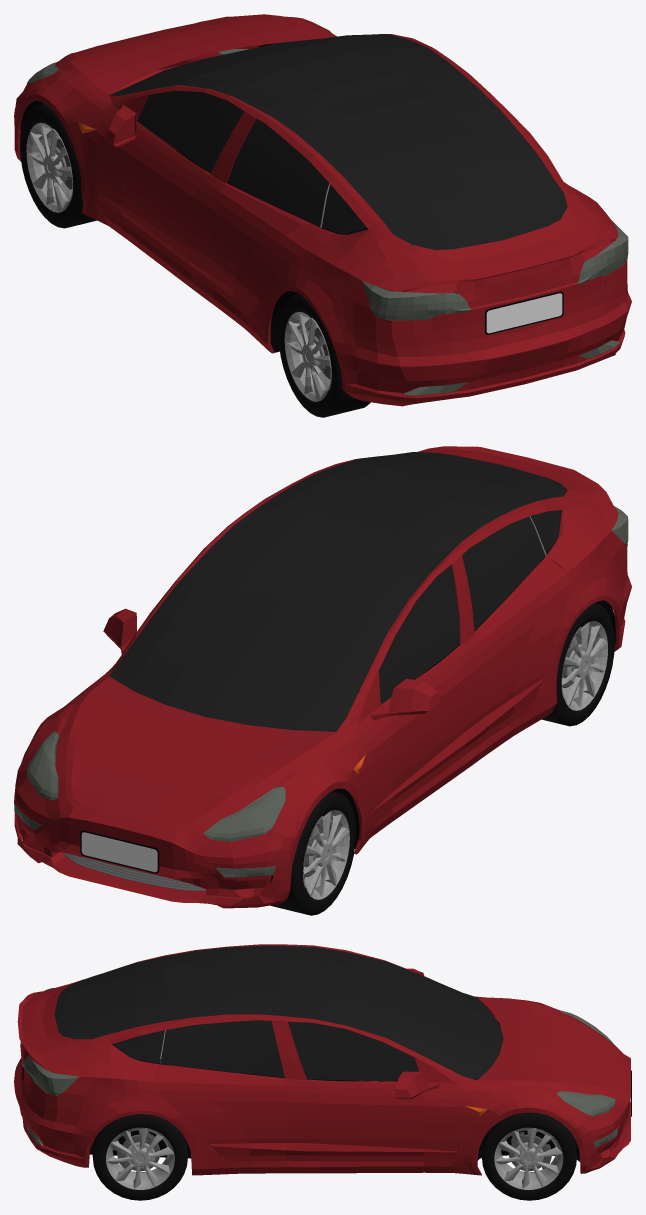
Rendered from tesla3.glb.
3 renders of one model, top to bottom at view 1: azimuth 30°, elevation 25°; view 2: azimuth 150°, elevation 25°; view 3: azimuth 270°, elevation 25°, orthographic. The views are drawn at different scales.
Parts seen in each view (by area): view 1: select-window-top, select-back-bumper, select-boot, select-front-door-left, select-back-door-left, select-hood, select-front-bumper, select-back-window-left, select-back-door-frame-left, select-front-window-left, Lights.Rear, Rim.Areo.004 (+8 smaller); view 2: select-window-top, select-front-bumper, select-hood, select-back-door-left, select-front-door-left, select-back-door-frame-left, select-back-window-left, select-front-window-left, select-back-bumper, Lights.Front, select-front-door-frame-left, select-boot (+9 smaller); view 3: select-window-top, select-front-door-right, select-back-door-right, select-front-bumper, select-back-bumper, select-hood, select-back-door-frame-right, select-back-window-right, select-front-window-right, select-boot, Cylinder.001, select-front-door-frame-right (+9 smaller).
Part boxes in pixels (left/top/right/bottom): select-window-top: left=109, top=34, right=567, bottom=249; select-back-bumper: left=307, top=182, right=631, bottom=406; select-boot: left=370, top=178, right=618, bottom=355; select-front-door-left: left=97, top=108, right=215, bottom=280; select-back-door-left: left=198, top=178, right=319, bottom=316; select-hood: left=71, top=16, right=327, bottom=94; select-front-bumper: left=14, top=14, right=336, bottom=225; select-back-window-left: left=227, top=119, right=367, bottom=234; select-back-door-frame-left: left=200, top=109, right=381, bottom=353; select-front-window-left: left=137, top=90, right=244, bottom=172; Lights.Rear: left=362, top=220, right=628, bottom=395; Rim.Areo.004: left=284, top=312, right=331, bottom=401; select-window-top: left=109, top=452, right=566, bottom=731; select-front-bumper: left=14, top=666, right=374, bottom=908; select-hood: left=71, top=678, right=331, bottom=826; select-back-door-left: left=467, top=556, right=568, bottom=749; select-front-door-left: left=359, top=641, right=477, bottom=821; select-back-door-frame-left: left=450, top=497, right=597, bottom=765; select-back-window-left: left=462, top=510, right=561, bottom=630; select-front-window-left: left=379, top=564, right=459, bottom=704; select-back-bumper: left=441, top=507, right=631, bottom=651; Lights.Front: left=14, top=731, right=285, bottom=877; select-front-door-frame-left: left=337, top=553, right=474, bottom=837; select-boot: left=416, top=446, right=617, bottom=512; select-window-top: left=54, top=945, right=503, bottom=1080; select-front-door-right: left=298, top=1079, right=458, bottom=1161; select-back-door-right: left=154, top=1064, right=304, bottom=1161; select-front-bumper: left=451, top=996, right=630, bottom=1175; select-back-bumper: left=14, top=981, right=131, bottom=1167; select-hood: left=478, top=998, right=621, bottom=1089; select-back-door-frame-right: left=105, top=1014, right=304, bottom=1175; select-back-window-right: left=112, top=1020, right=284, bottom=1077; select-front-window-right: left=288, top=1021, right=419, bottom=1081; select-boot: left=17, top=978, right=110, bottom=1105; Cylinder.001: left=482, top=1112, right=576, bottom=1200; select-front-door-frame-right: left=279, top=1015, right=475, bottom=1173.
Bounding box in the file's own units: 2.14 × 1.46 × 4.67.
